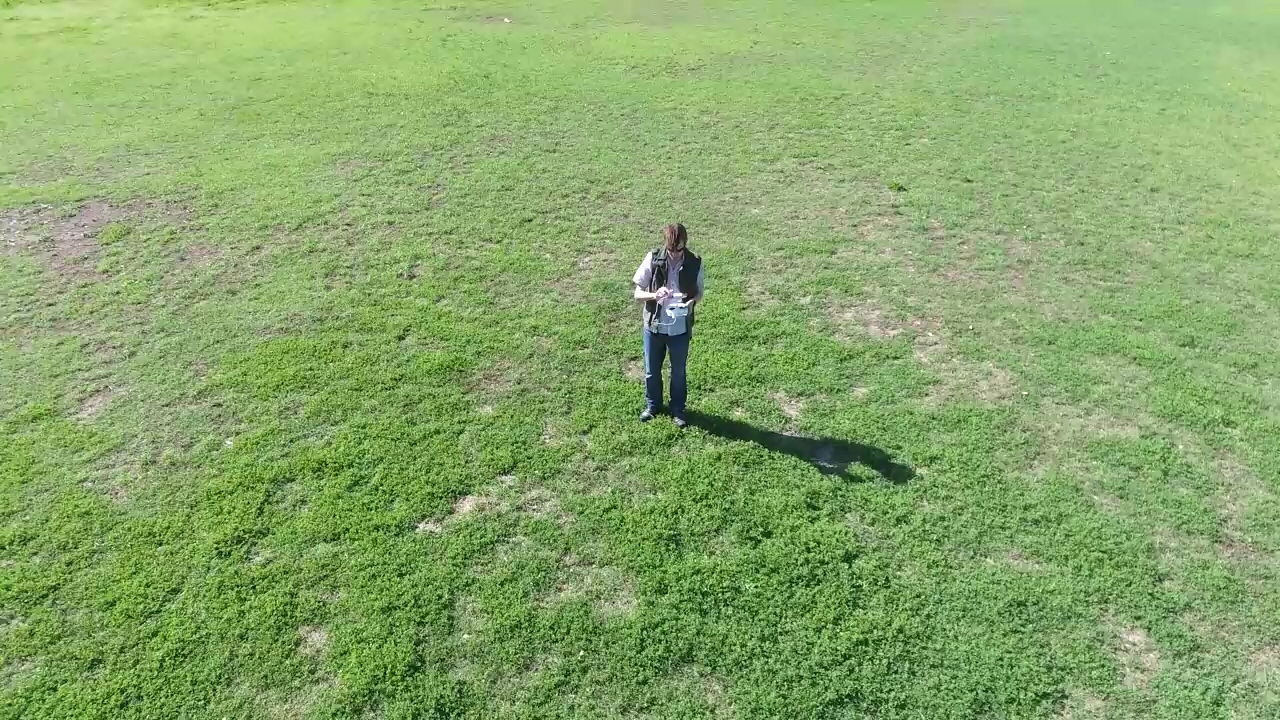insan: (631, 224, 709, 427)
